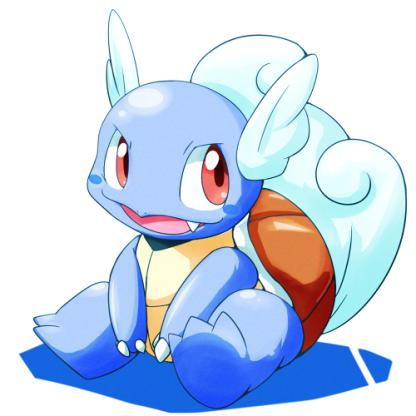Wartortle: (16, 16, 407, 409)
